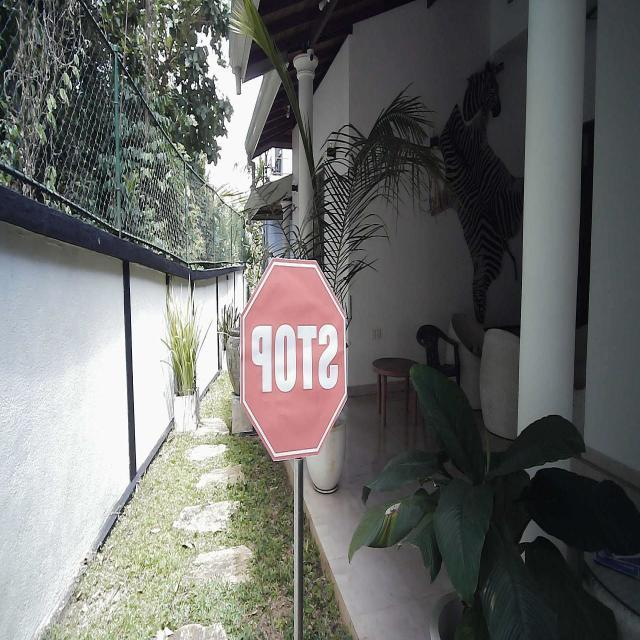stop: (238, 253, 349, 464)
